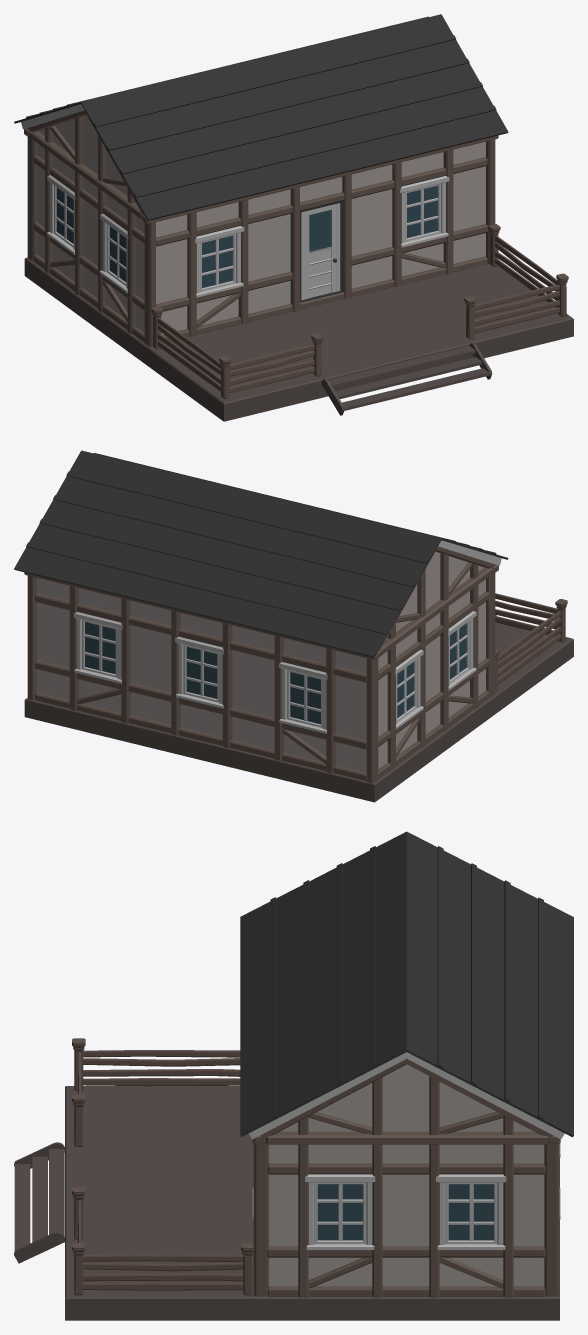
Rendered from house_07.glb.
The picture shows the model from 3 angles, top to bottom: view 1: azimuth 30°, elevation 25°; view 2: azimuth 150°, elevation 25°; view 3: azimuth 270°, elevation 25°; orthographic projection. The views are drawn at different scales.
Parts seen in each view (by area): view 1: house_07; view 2: house_07; view 3: house_07.
Boxes of the visible parts, x1,y1,x2,y2 form: house_07: (14,14,573,421); house_07: (14,450,573,802); house_07: (14,831,573,1320).
Bounding box in the file's own units: 10.64 × 6.34 × 11.53.
1 material, 1 textured.
